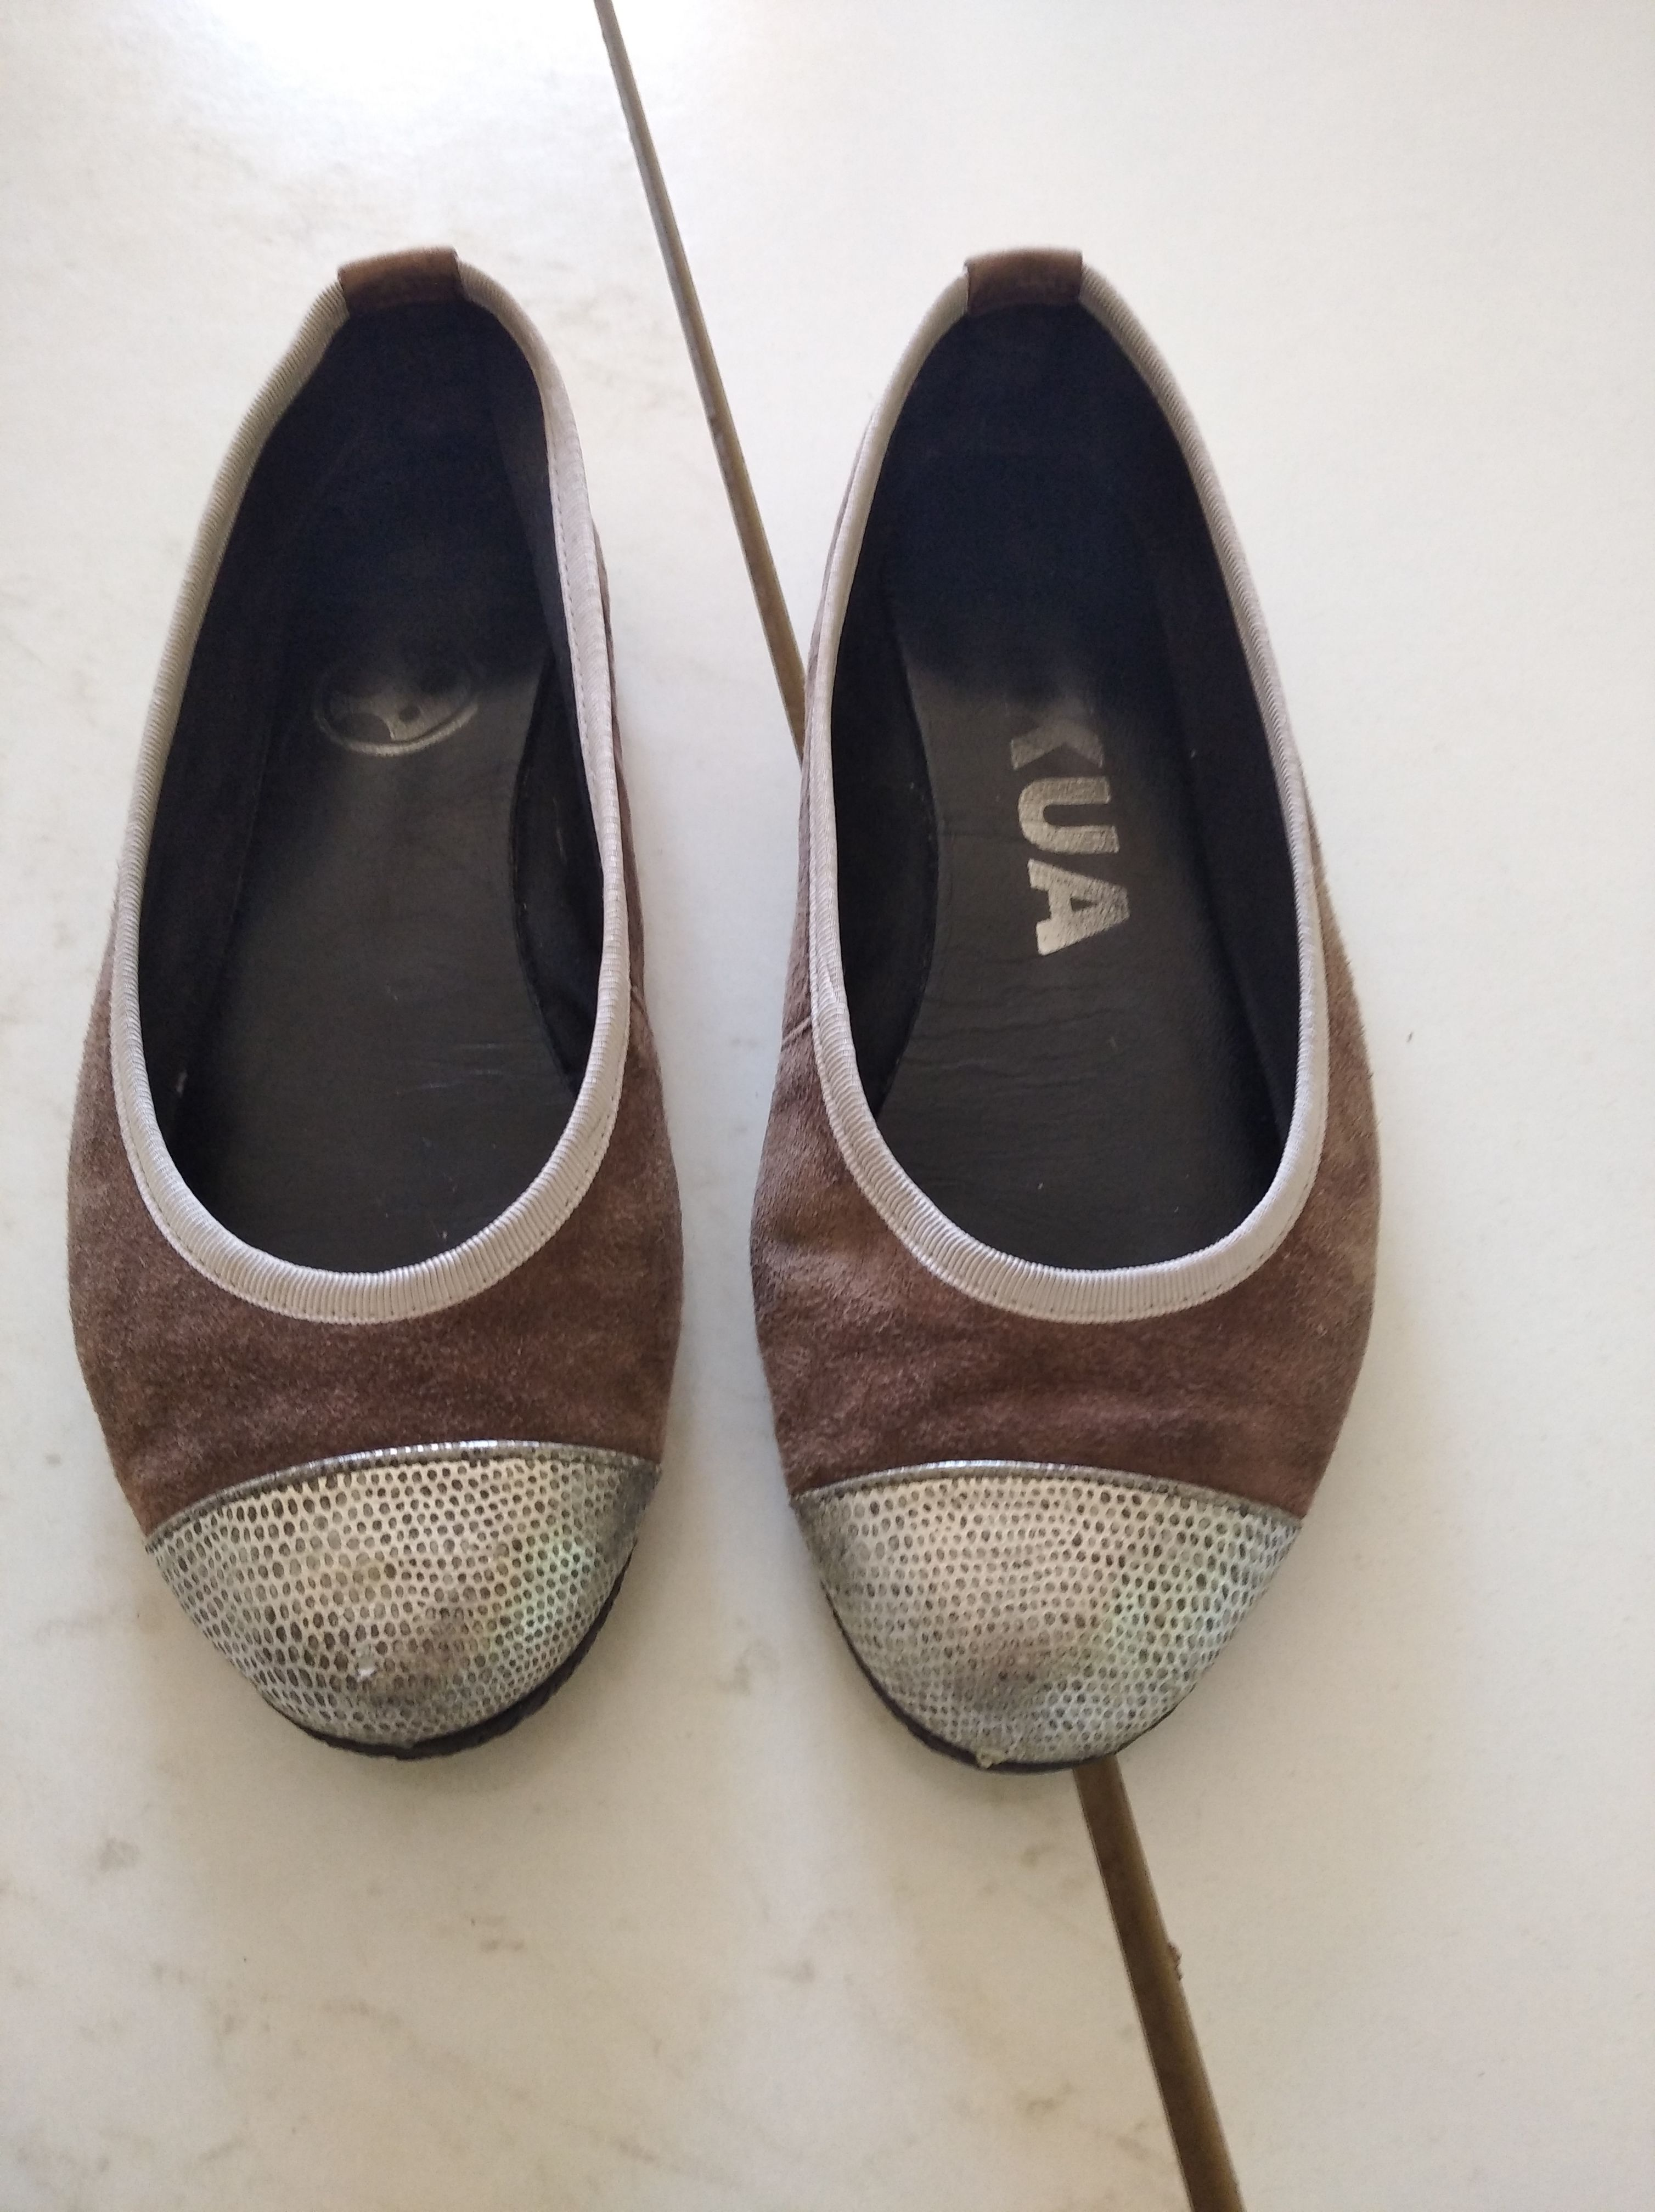clothes: (85, 226, 1354, 1790)
